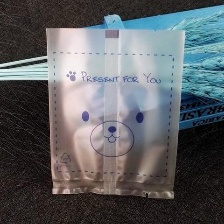snack: (36, 17, 191, 205)
